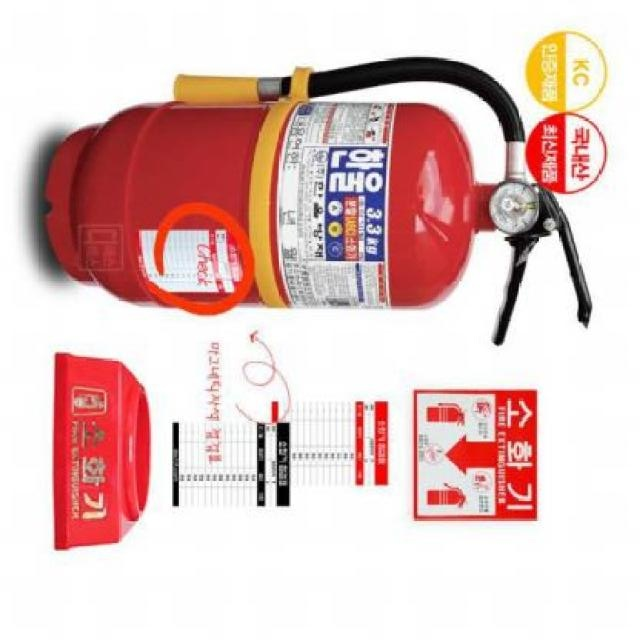fire extinguisher: (45, 56, 593, 347)
